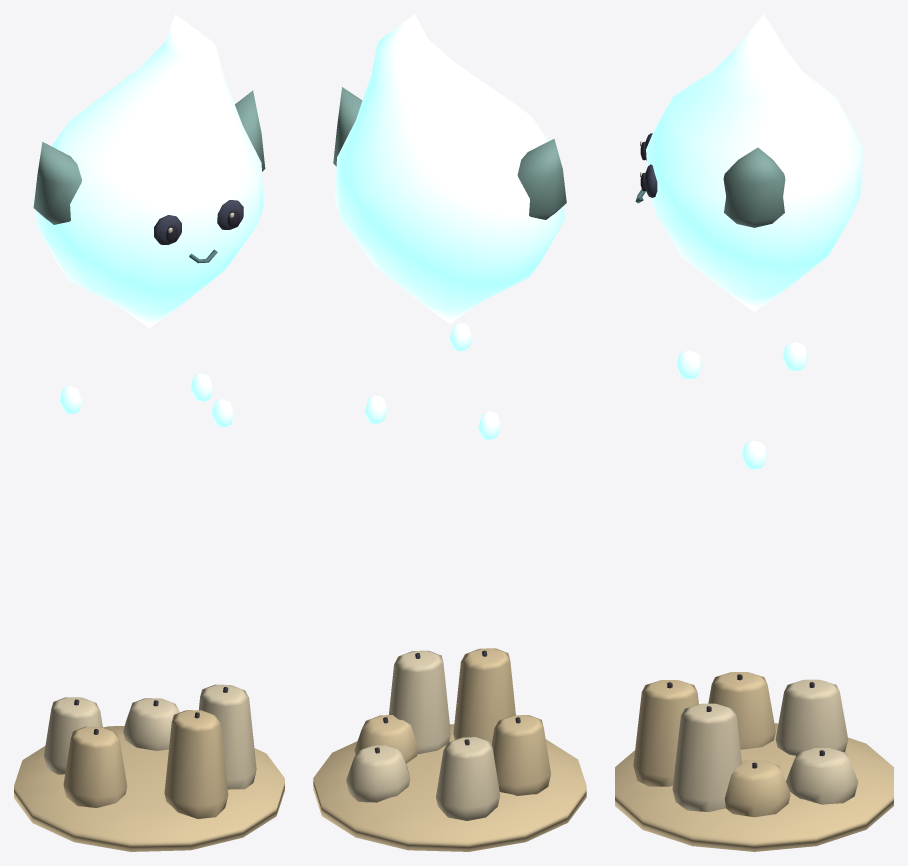
Rendered from vendor_candlemaker.glb.
The picture shows the model from 3 angles, left to right: view 1: azimuth 30°, elevation 25°; view 2: azimuth 150°, elevation 25°; view 3: azimuth 270°, elevation 25°; orthographic projection. The views are drawn at different scales.
Visible parts, largest first — view 1: vendor_candlemaker; view 2: vendor_candlemaker; view 3: vendor_candlemaker.
Part boxes in pixels (left/top/right/bottom): vendor_candlemaker: left=14, top=14, right=284, bottom=851; vendor_candlemaker: left=313, top=14, right=586, bottom=851; vendor_candlemaker: left=615, top=14, right=893, bottom=851.
Size of the model in its own units: 0.5 by 1.6 by 0.5.
